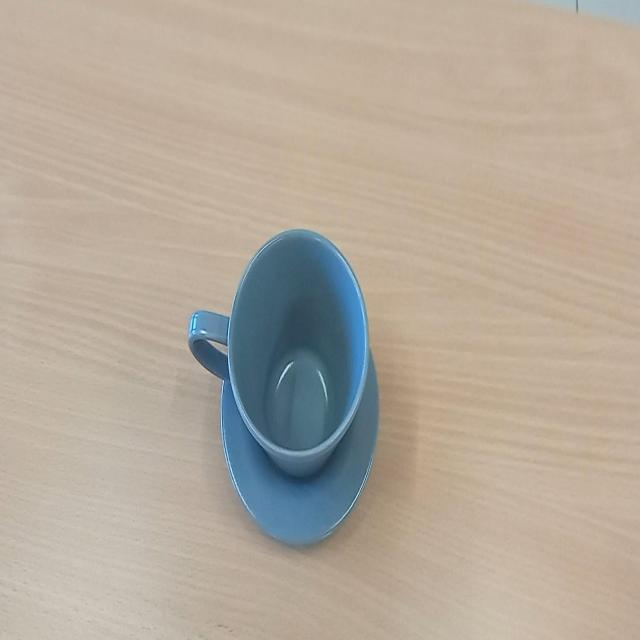cup: (188, 222, 384, 555)
